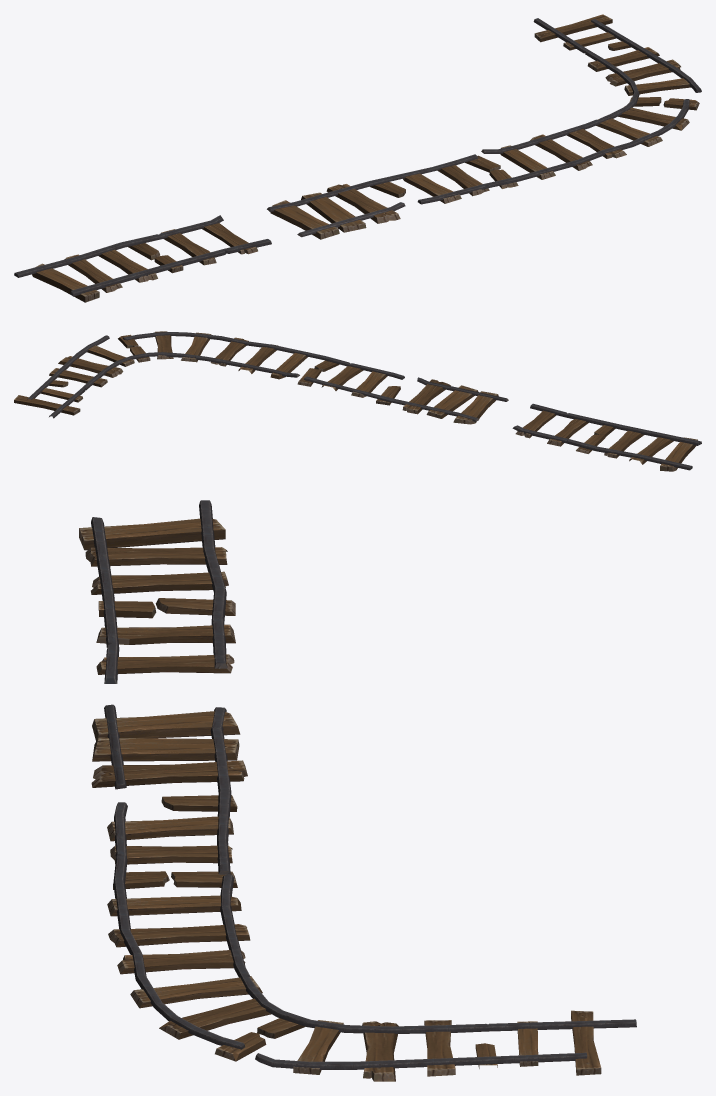
The model's file is 6001_Item_daolu_1.FBX.
3 views of the same model, one above another, from view 1: azimuth 30°, elevation 25°; view 2: azimuth 150°, elevation 25°; view 3: azimuth 270°, elevation 25° (orthographic). The views are drawn at different scales.
Visible parts, largest first — view 1: 6001_Item_daolu_1; view 2: 6001_Item_daolu_1; view 3: 6001_Item_daolu_1.
Part boxes in pixels (box(x1,y1,x2,y2)): 6001_Item_daolu_1: box(14, 14, 701, 302); 6001_Item_daolu_1: box(14, 331, 701, 471); 6001_Item_daolu_1: box(79, 500, 636, 1081).
Bounding box in the file's own units: 2113 × 30.63 × 871.
